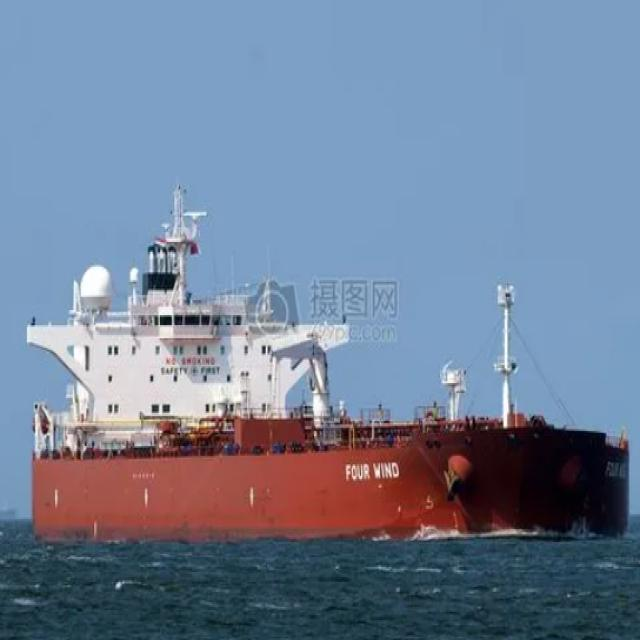cargoship: (29, 221, 640, 552)
